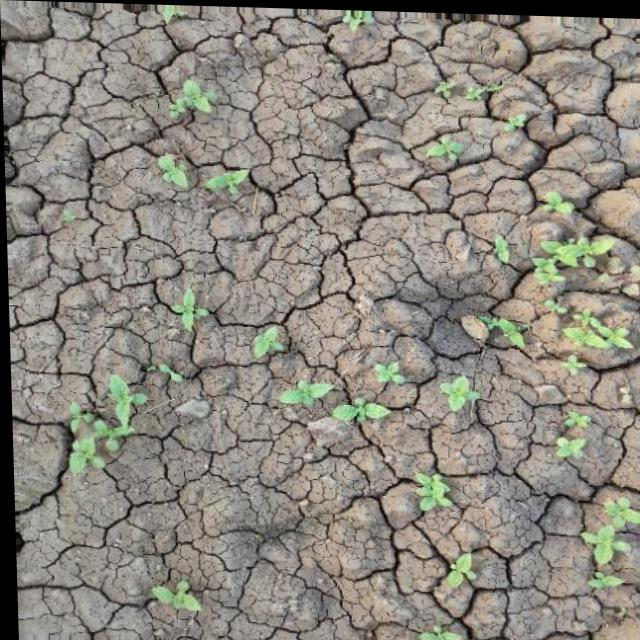crop: (480, 198, 629, 287), (48, 382, 171, 477), (269, 380, 386, 436), (158, 71, 223, 127), (404, 459, 463, 515), (142, 579, 211, 621), (204, 158, 259, 208), (437, 364, 479, 426), (439, 544, 487, 597), (420, 122, 471, 171), (433, 69, 495, 104), (167, 284, 213, 329), (241, 320, 287, 365), (152, 148, 194, 190), (367, 355, 408, 391), (501, 105, 528, 138)
